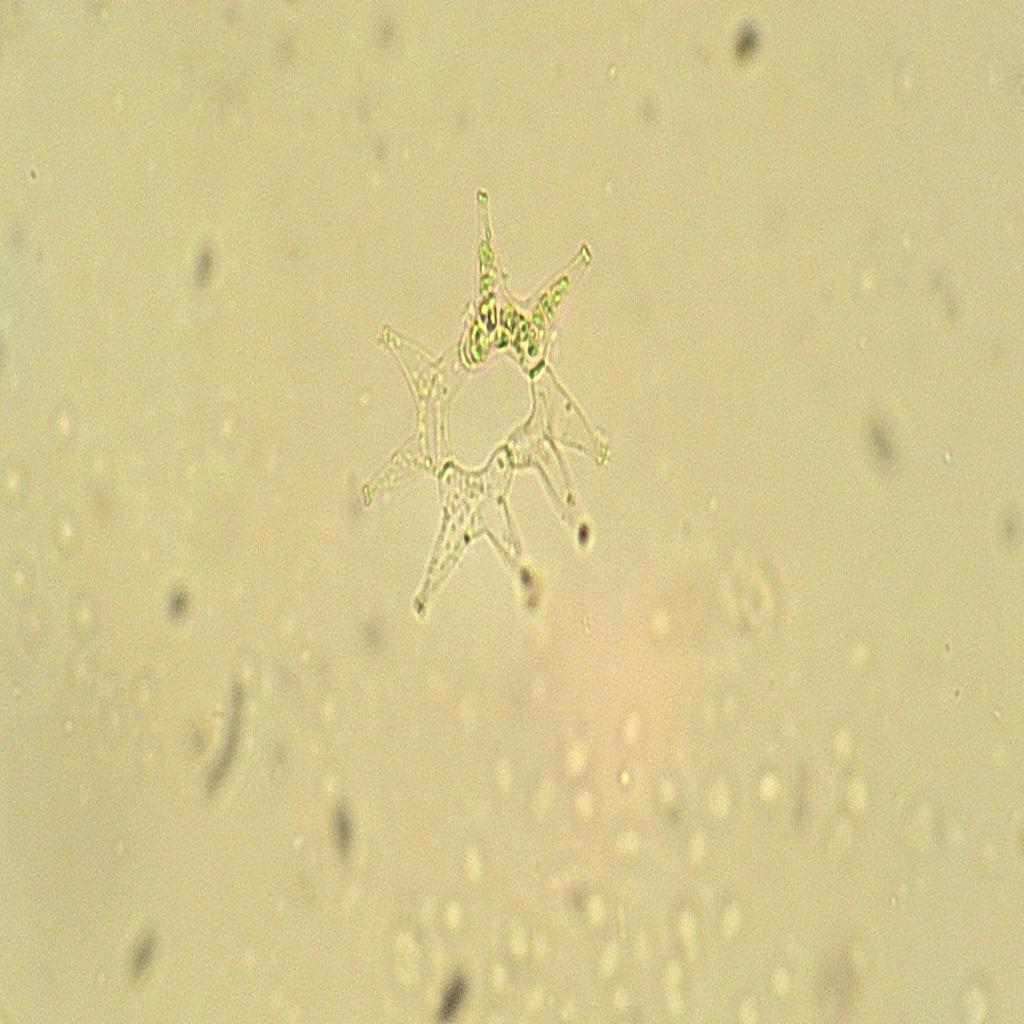Pediastrum_75TH: (348, 147, 638, 678)
